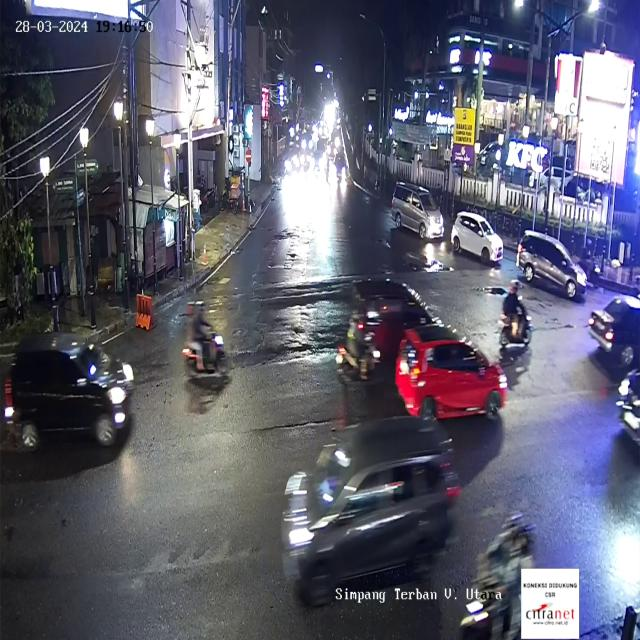car: (286, 413, 462, 602), (4, 334, 132, 450), (396, 328, 510, 420), (344, 290, 443, 378), (516, 230, 590, 300), (588, 294, 639, 362), (392, 183, 445, 242), (452, 212, 505, 267)
motorcycle: (459, 499, 538, 640), (182, 298, 228, 377), (498, 277, 532, 352)
